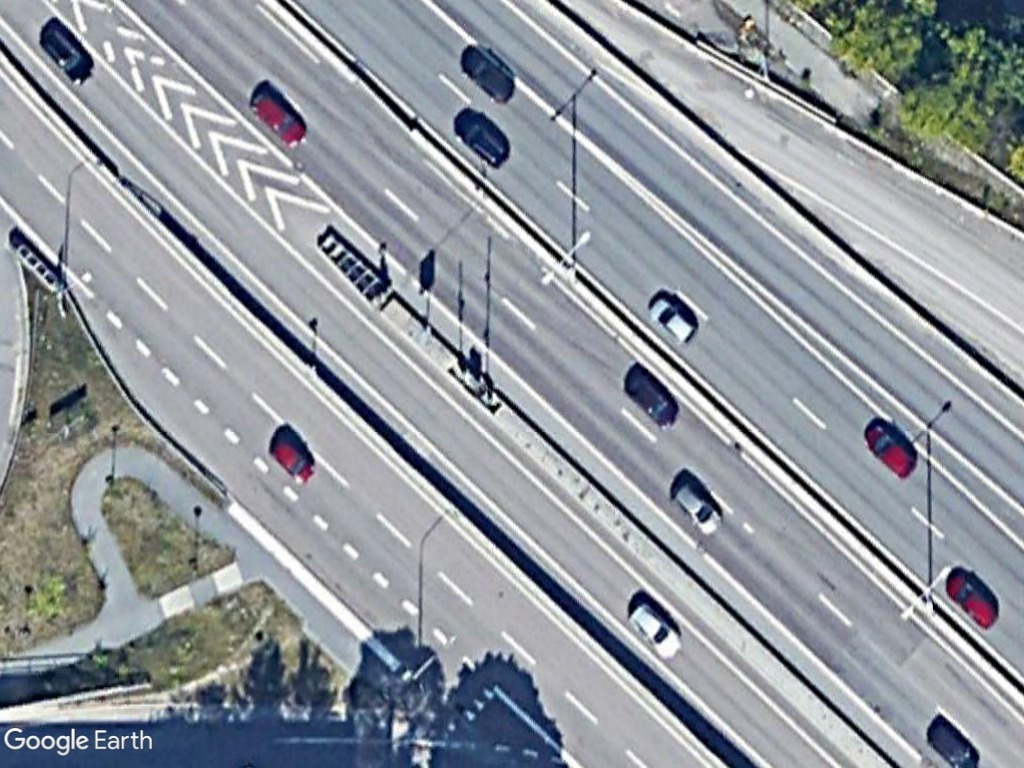car: (242, 83, 314, 153), (619, 596, 691, 666), (447, 103, 516, 171), (940, 563, 1006, 634), (30, 22, 97, 91), (454, 40, 522, 107), (665, 472, 728, 544), (620, 363, 684, 432), (860, 418, 922, 484), (643, 289, 702, 352), (265, 431, 318, 491)
